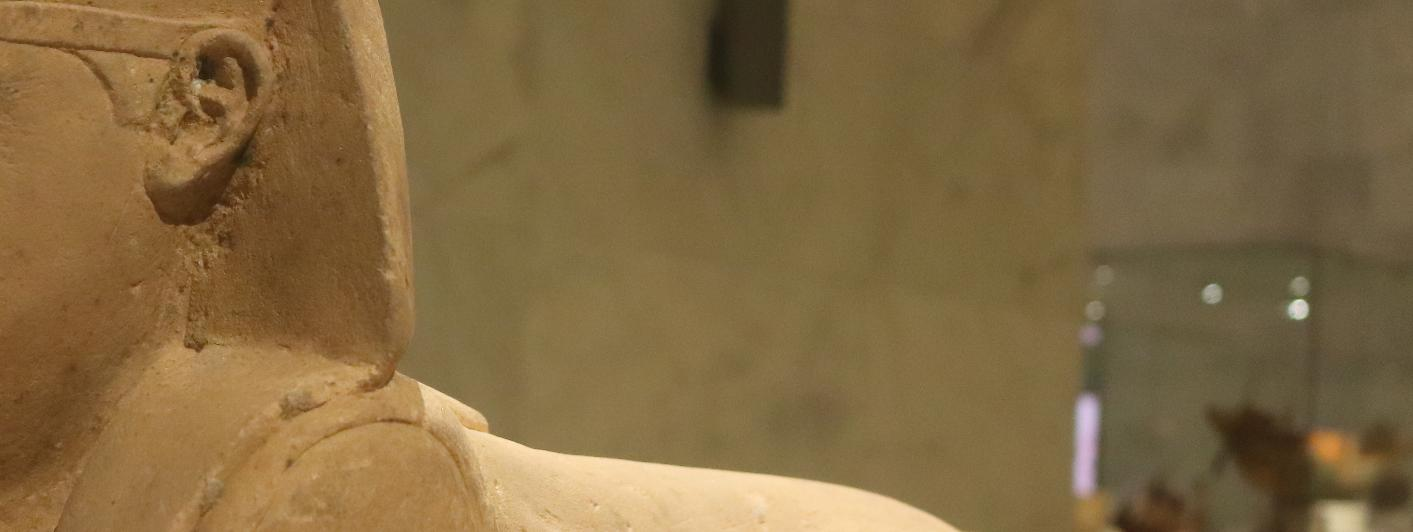statue_ofthe_sphinx: (0, 0, 1164, 532)
